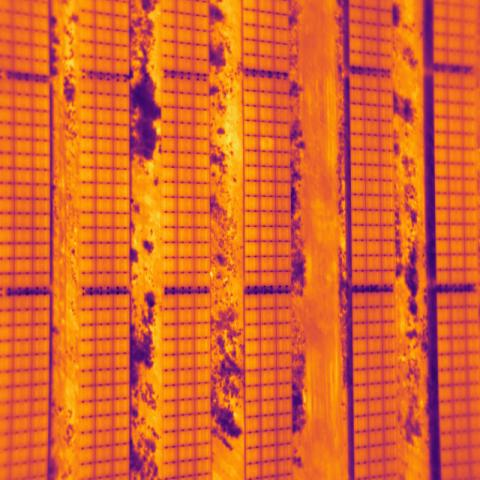fault: (259, 136, 276, 152)
